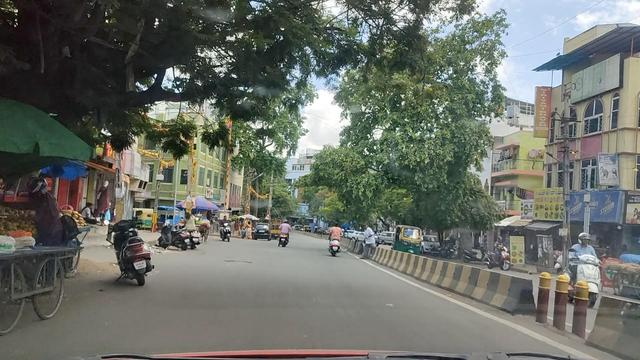LMV: (103, 212, 157, 283), (326, 220, 342, 256)
